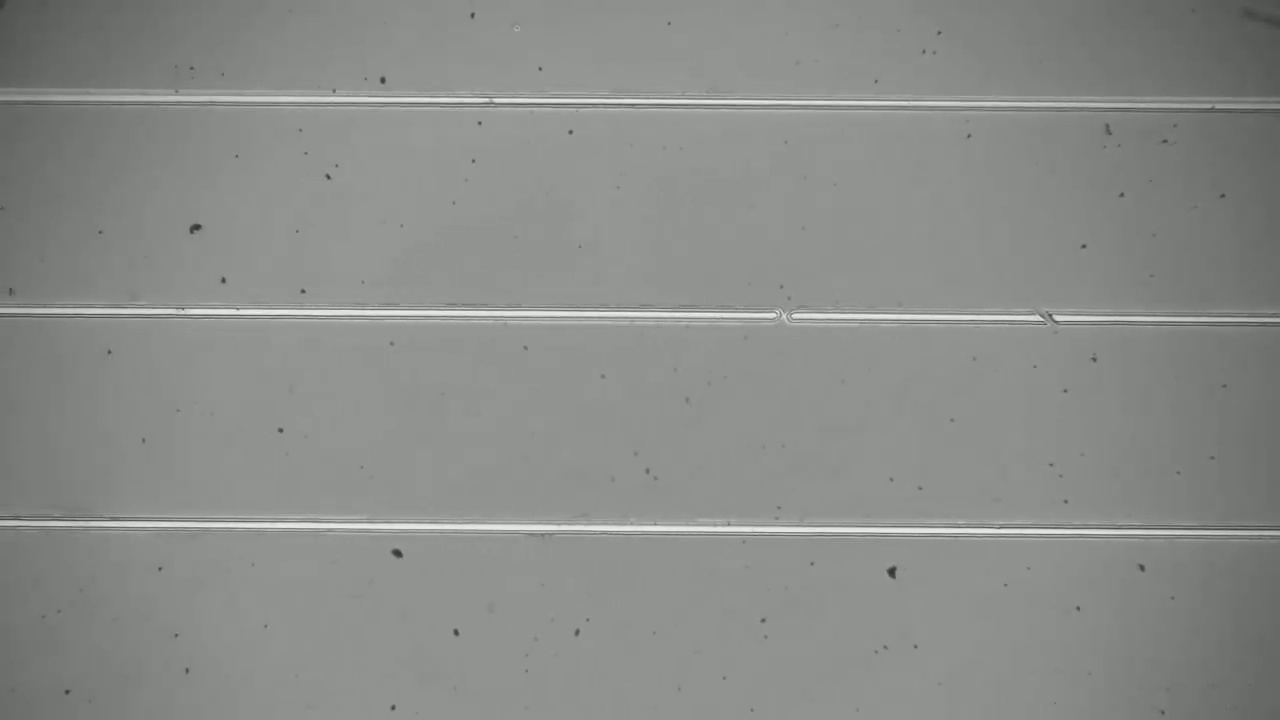open: (760, 293, 811, 336), (1029, 304, 1074, 335)
